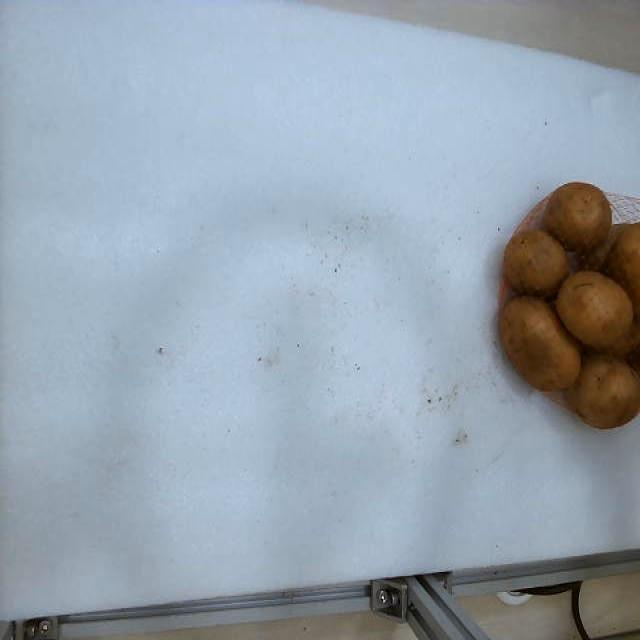potato: (500, 297, 580, 389), (555, 270, 632, 349), (566, 353, 640, 428), (544, 185, 611, 251), (504, 230, 569, 296), (608, 223, 640, 313)
